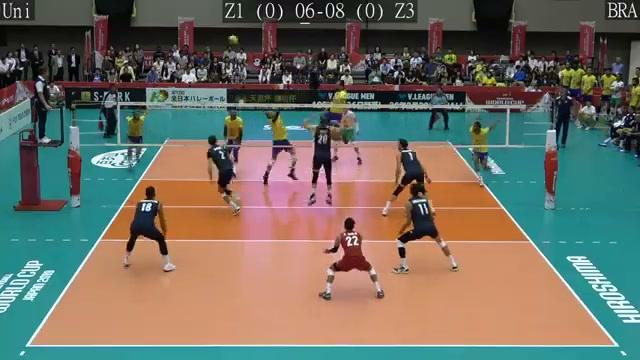ball: (229, 34, 239, 46)
